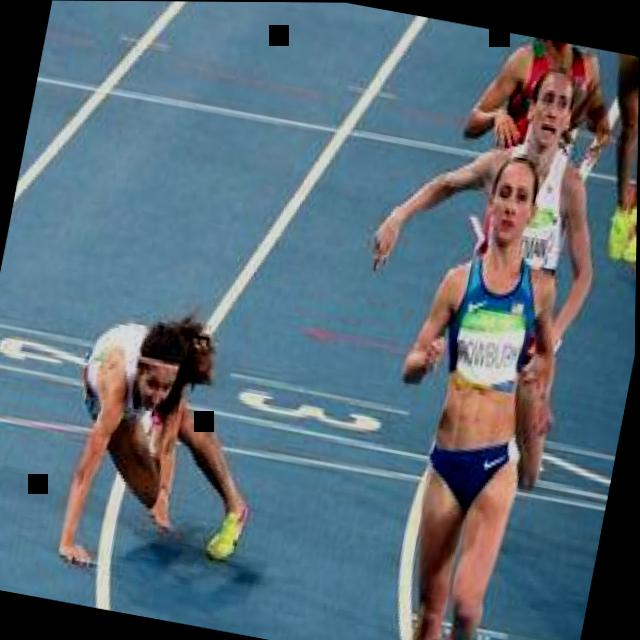Fall-Detected: (34, 268, 290, 595)
